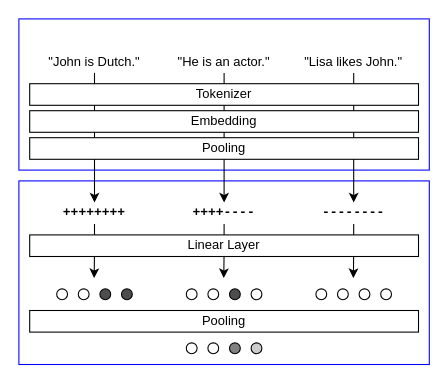
This 448x383 diagram has some shape labels left out. Here are the shapes that lost their labels. From the top down, the box of each, then its label:
(18, 18, 429, 170): Embedding Block
(18, 180, 429, 364): Classification Block
